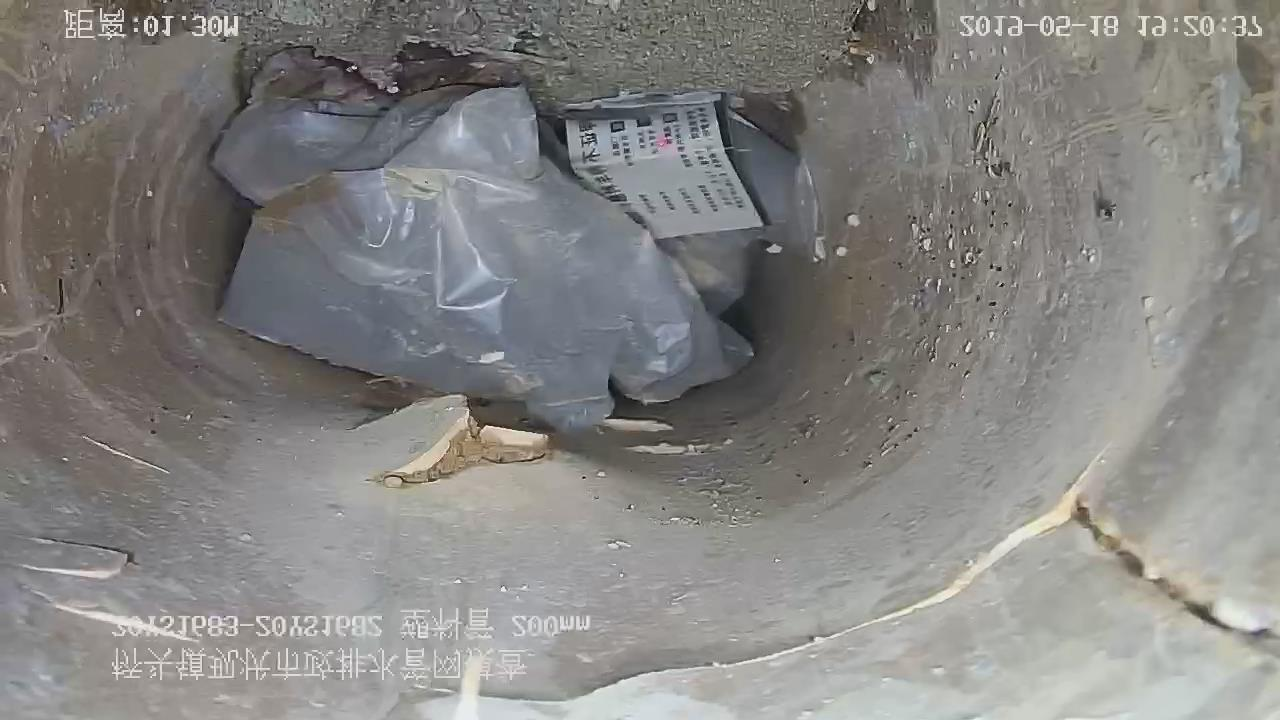PL: (356, 395, 561, 500)
